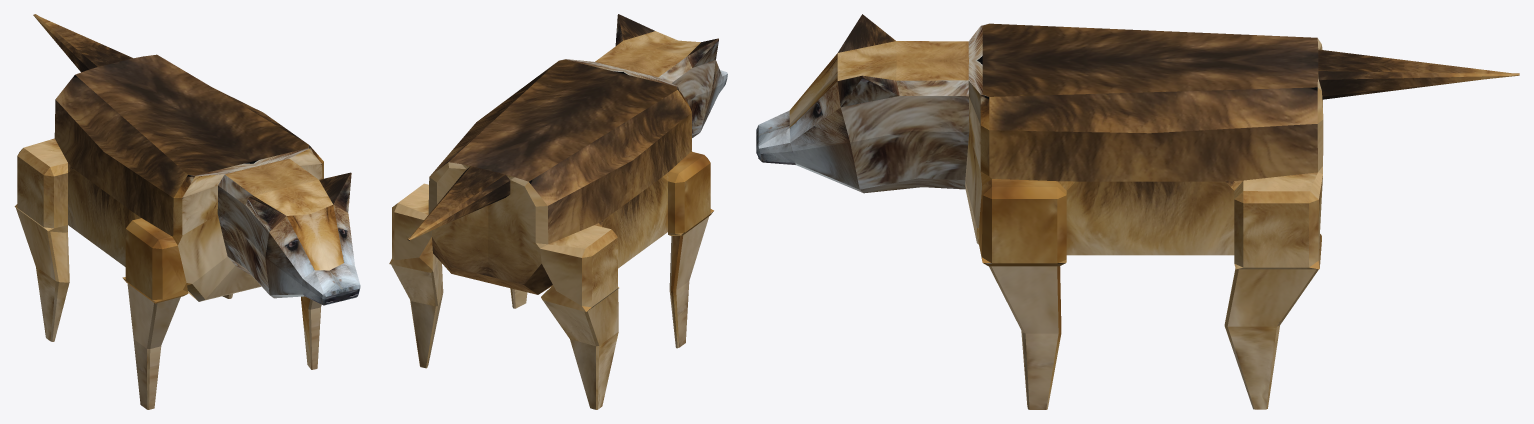
The model's file is dog.glb.
3 renders of one model, left to right at view 1: azimuth 30°, elevation 25°; view 2: azimuth 150°, elevation 25°; view 3: azimuth 270°, elevation 25°, orthographic. The views are drawn at different scales.
Parts seen in each view (by area): view 1: Cube; view 2: Cube; view 3: Cube.
Boxes of the visible parts, x1=… form: Cube: x1=14, y1=14, x2=360, y2=409; Cube: x1=389, y1=14, x2=727, y2=409; Cube: x1=756, y1=14, x2=1519, y2=409.
Bounding box in the file's own units: 2.18 × 2.59 × 5.69.
Materials: 1 (1 with a texture image).
